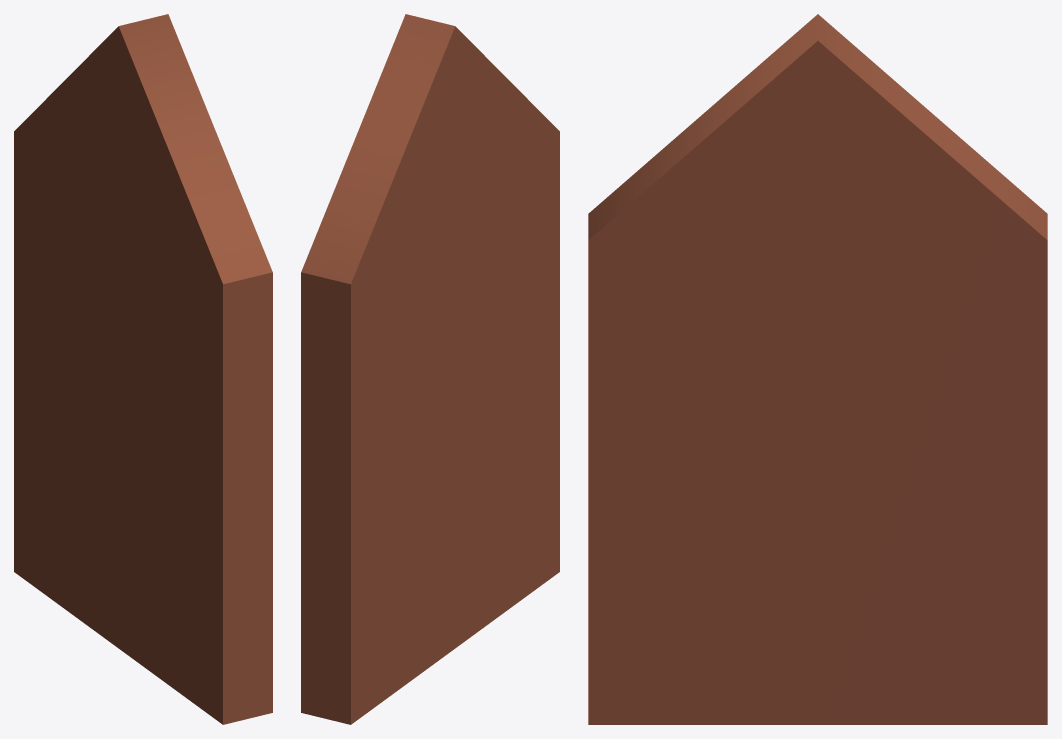
The model's file is CasaRoja_3.FBX.
3 renders of one model, left to right at view 1: azimuth 30°, elevation 25°; view 2: azimuth 150°, elevation 25°; view 3: azimuth 270°, elevation 25°, orthographic. The views are drawn at different scales.
Visible parts, largest first — view 1: CasaRoja_3; view 2: CasaRoja_3; view 3: CasaRoja_3.
Part boxes in pixels (x1,y1,x2,y2): CasaRoja_3: [14, 14, 272, 724]; CasaRoja_3: [301, 14, 559, 724]; CasaRoja_3: [588, 14, 1047, 724].
Size of the model in its own units: 4.1 by 49.06 by 29.86.
